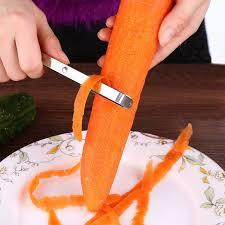Organic: (37, 3, 192, 225)
